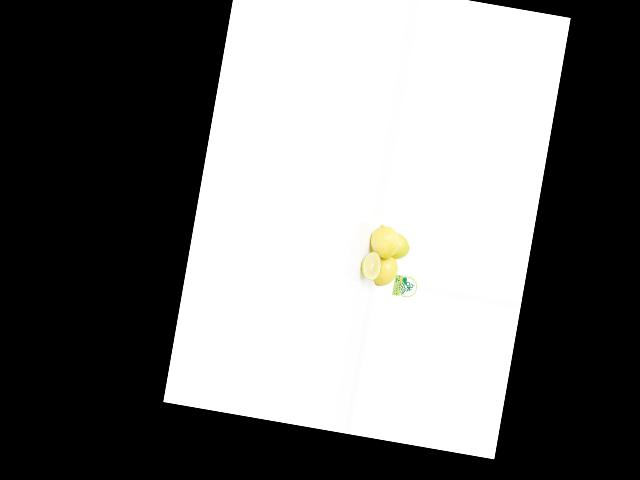lemon: (366, 220, 401, 259)
